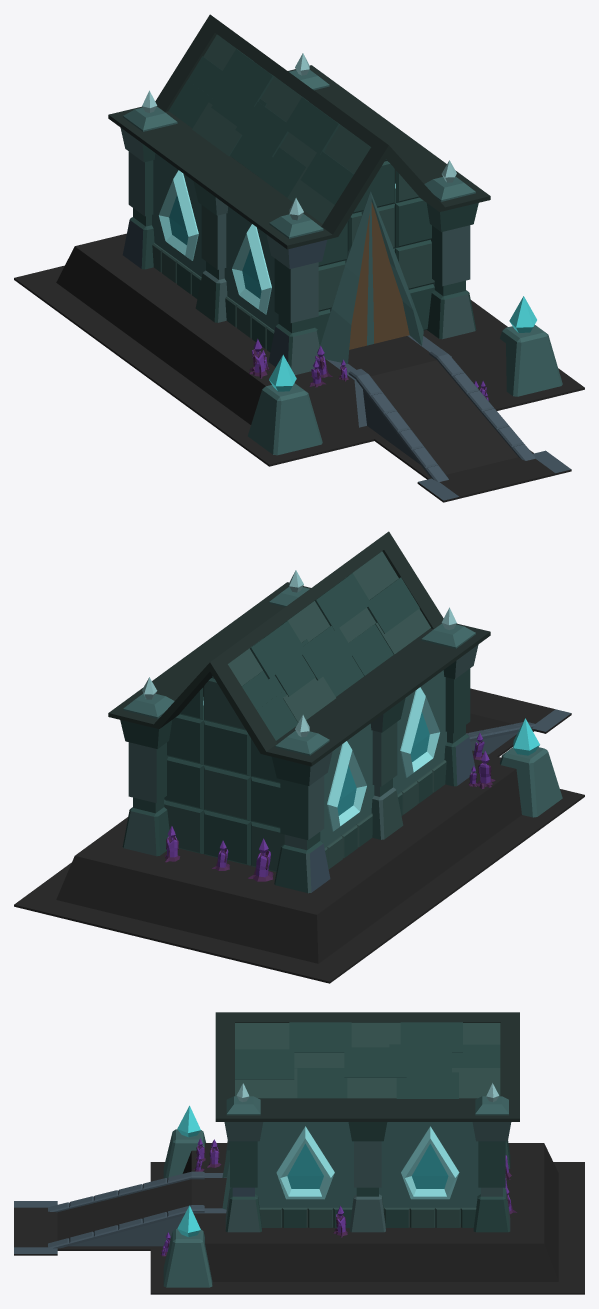
File: Crypt_Small.fbx
3 views of the same model, one above another, from view 1: azimuth 30°, elevation 25°; view 2: azimuth 150°, elevation 25°; view 3: azimuth 270°, elevation 25° (orthographic). The views are drawn at different scales.
Visible parts, largest first — view 1: Cube.001; view 2: Cube.001; view 3: Cube.001.
Part boxes in pixels (x1=…): Cube.001: x1=14, y1=14, x2=584, y2=502; Cube.001: x1=14, y1=531, x2=584, y2=983; Cube.001: x1=14, y1=1012, x2=584, y2=1294.
Bounding box in the file's own units: 500 × 390 × 921.
